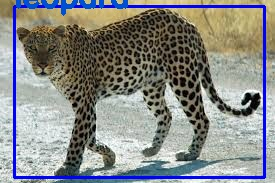leopard: (14, 6, 264, 176)
